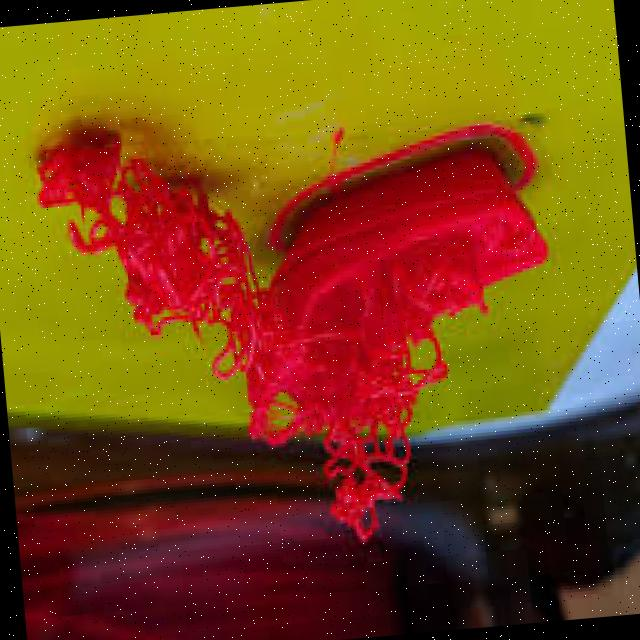spaghetti: (43, 126, 496, 542)
